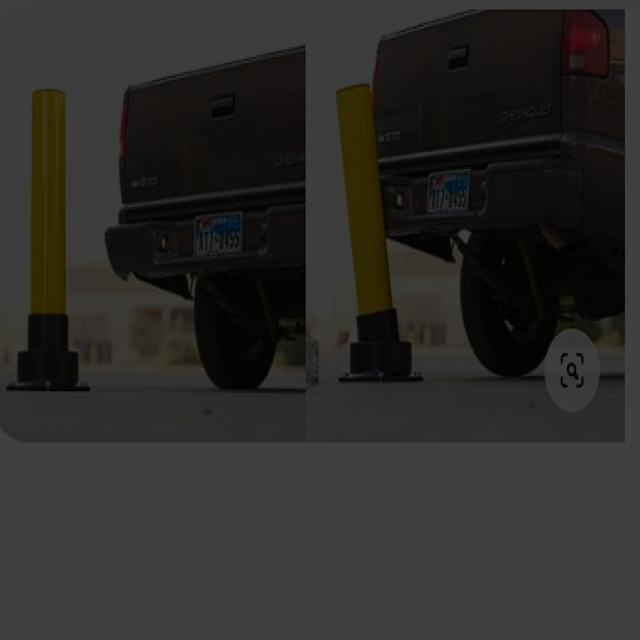Bollard: (332, 76, 407, 379), (26, 82, 70, 361)
